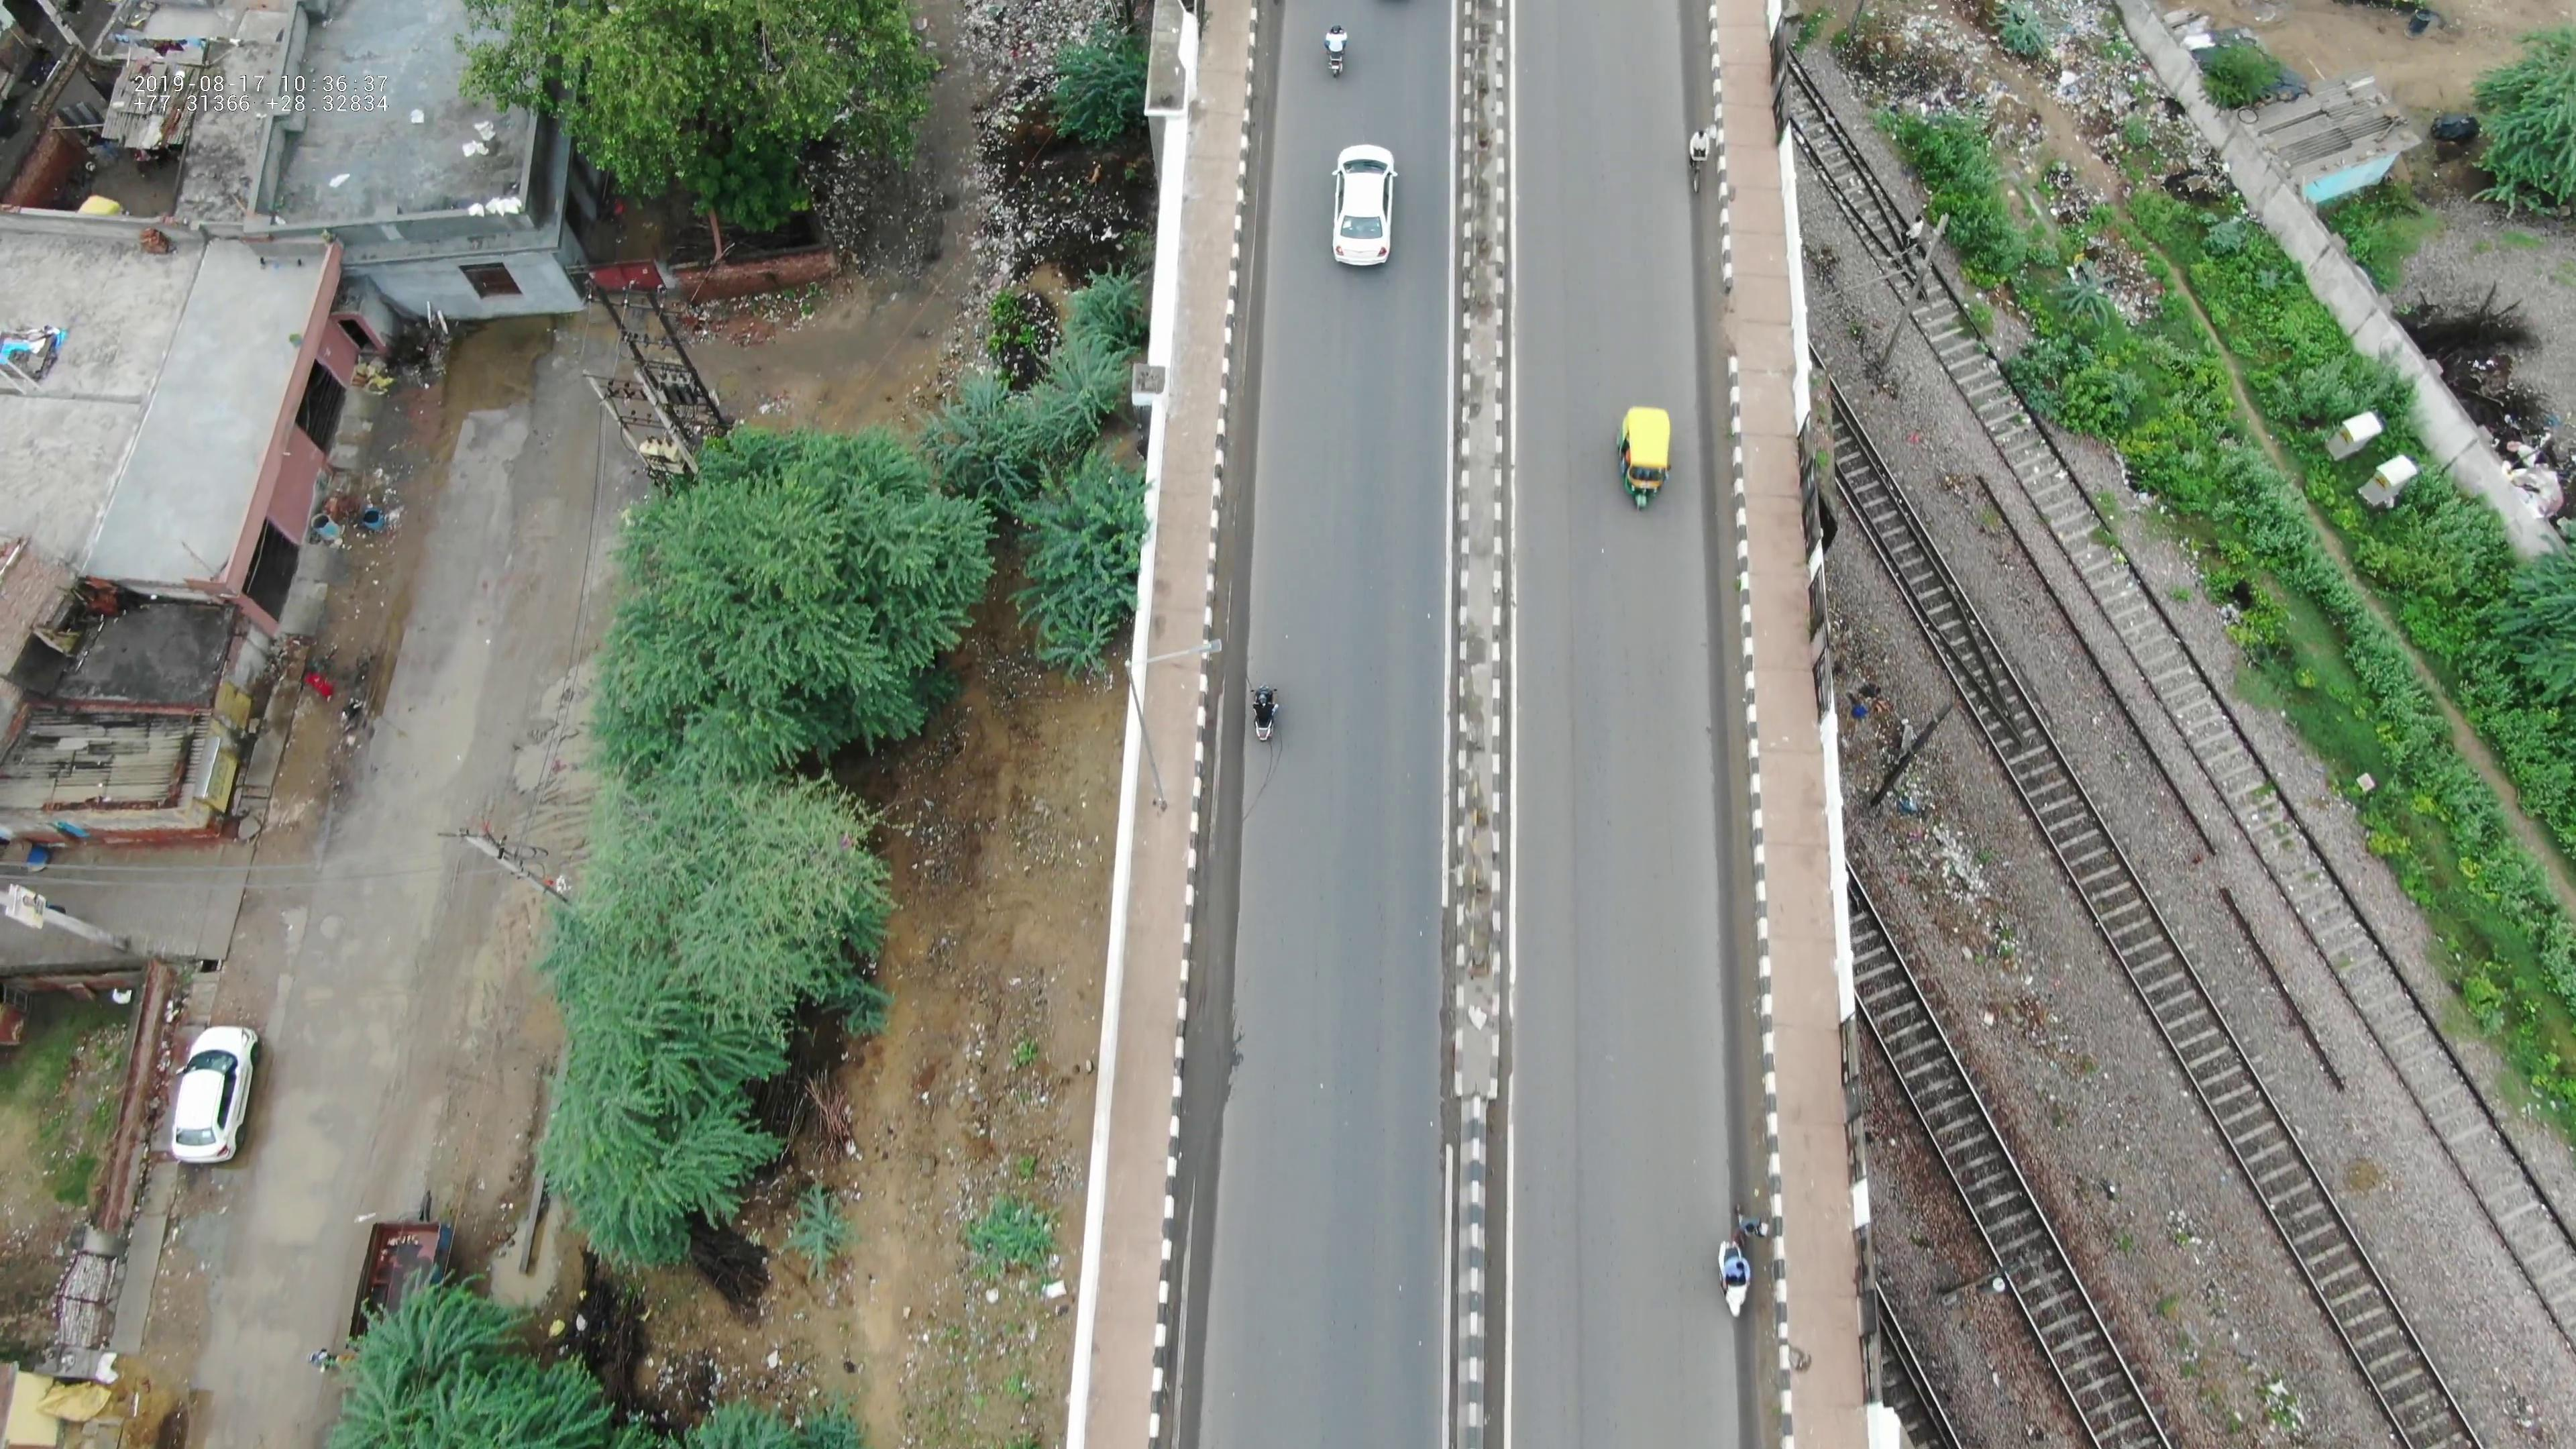Potholes: (285, 909, 441, 1053)
